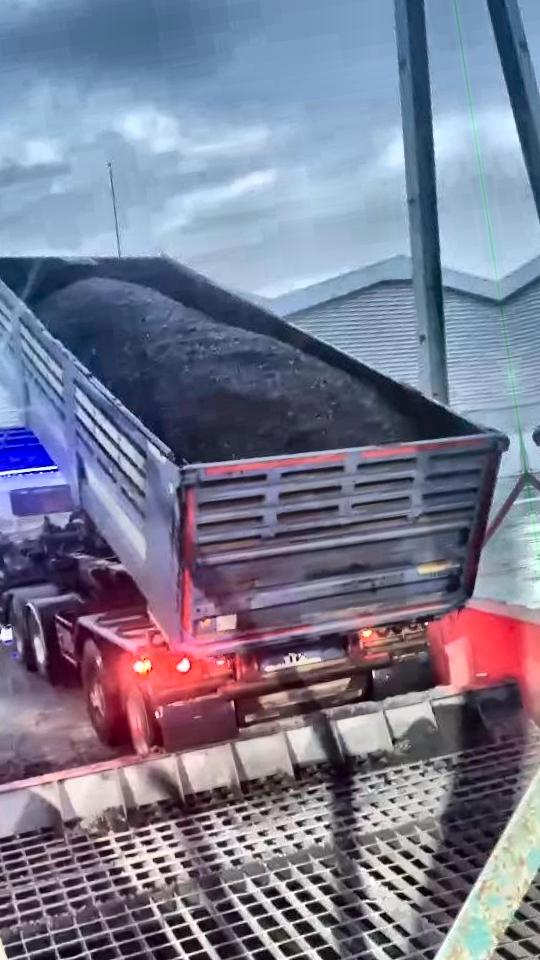gravel: (33, 277, 421, 461)
